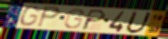4: (106, 10, 126, 33)
G: (63, 8, 85, 30), (19, 6, 40, 27)
P: (36, 5, 62, 29), (80, 8, 107, 31)
U: (123, 10, 155, 34)
